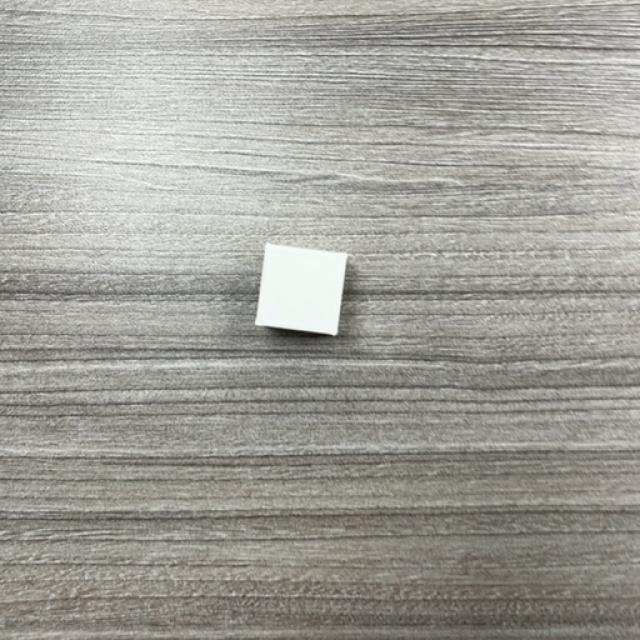Blanco: (255, 245, 350, 338)
